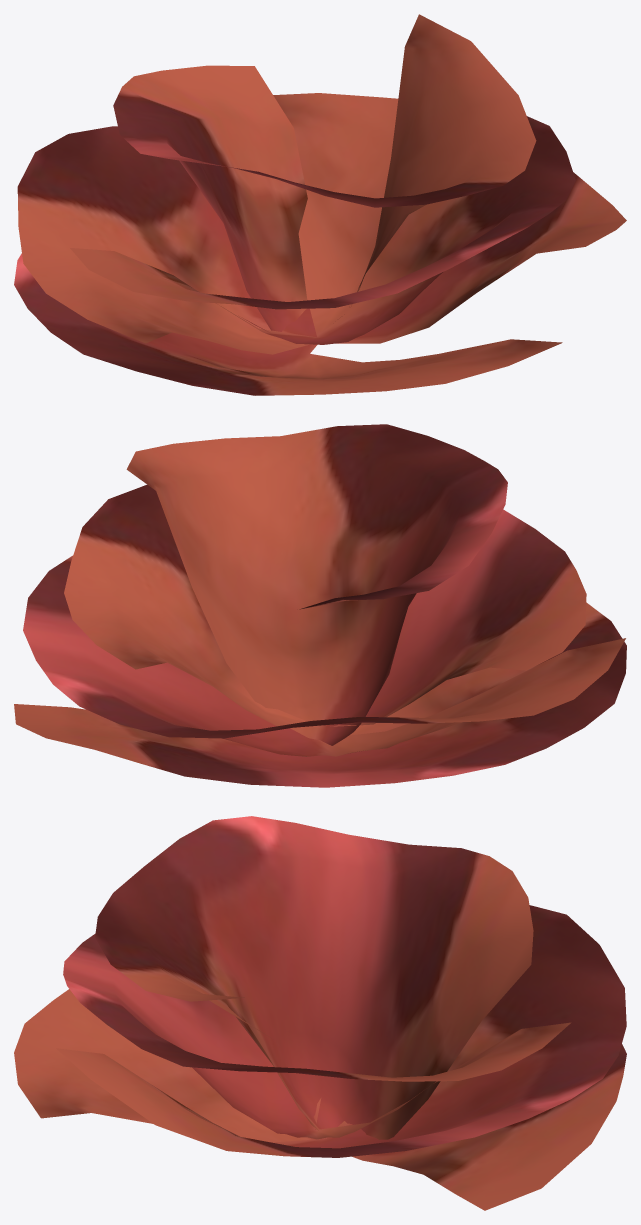
File: softcoral-08.glb
3 views of the same model, one above another, from view 1: azimuth 30°, elevation 25°; view 2: azimuth 150°, elevation 25°; view 3: azimuth 270°, elevation 25° (orthographic). The views are drawn at different scales.
Parts seen in each view (by area): view 1: coral16; view 2: coral16; view 3: coral16.
Part boxes in pixels (bbox=[...]): coral16: bbox=[14, 14, 626, 395]; coral16: bbox=[14, 424, 626, 787]; coral16: bbox=[14, 816, 626, 1210].
Bounding box in the file's own units: 1.56 × 0.7713 × 1.55.
Materials: 1 (1 with a texture image).
